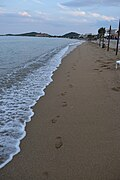human_foot_print: (55, 136, 62, 148), (51, 115, 59, 123), (42, 171, 48, 179), (112, 86, 119, 91), (51, 118, 56, 123), (62, 101, 67, 106), (60, 91, 66, 95), (93, 68, 101, 71), (72, 63, 76, 68), (67, 73, 69, 80), (72, 65, 75, 69), (67, 78, 70, 82), (67, 74, 70, 78), (72, 67, 76, 70), (93, 68, 98, 70), (67, 71, 70, 74), (69, 84, 72, 87)
